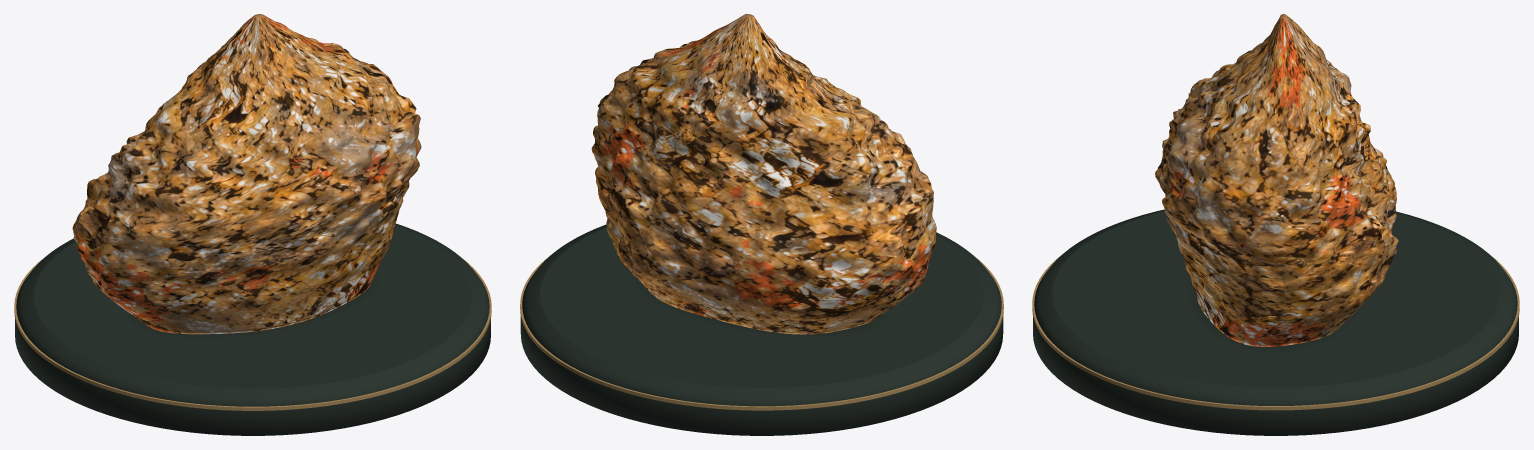
Rendered from lingstone-art-04-v20-b63c459793fa.glb.
3 views of the same model, side by side, from view 1: azimuth 30°, elevation 25°; view 2: azimuth 150°, elevation 25°; view 3: azimuth 270°, elevation 25° (orthographic). The views are drawn at different scales.
Visible parts, largest first — view 1: art-c1ec7e0779e4fb78 concept stone, Centered beveled display plinth, Champagne gold edge; view 2: art-c1ec7e0779e4fb78 concept stone, Centered beveled display plinth, Champagne gold edge; view 3: Centered beveled display plinth, art-c1ec7e0779e4fb78 concept stone, Champagne gold edge.
Boxes of the visible parts, x1=… form: art-c1ec7e0779e4fb78 concept stone: x1=72, y1=14, x2=421, y2=334; Centered beveled display plinth: x1=15, y1=223, x2=490, y2=435; Champagne gold edge: x1=14, y1=258, x2=491, y2=410; art-c1ec7e0779e4fb78 concept stone: x1=591, y1=14, x2=936, y2=334; Centered beveled display plinth: x1=520, y1=224, x2=1003, y2=435; Champagne gold edge: x1=520, y1=257, x2=1003, y2=410; Centered beveled display plinth: x1=1033, y1=209, x2=1518, y2=435; art-c1ec7e0779e4fb78 concept stone: x1=1155, y1=14, x2=1398, y2=346; Champagne gold edge: x1=1032, y1=255, x2=1519, y2=410.
Bounding box in the file's own units: 1.93 × 1.43 × 1.93.
4 materials, 1 textured.
